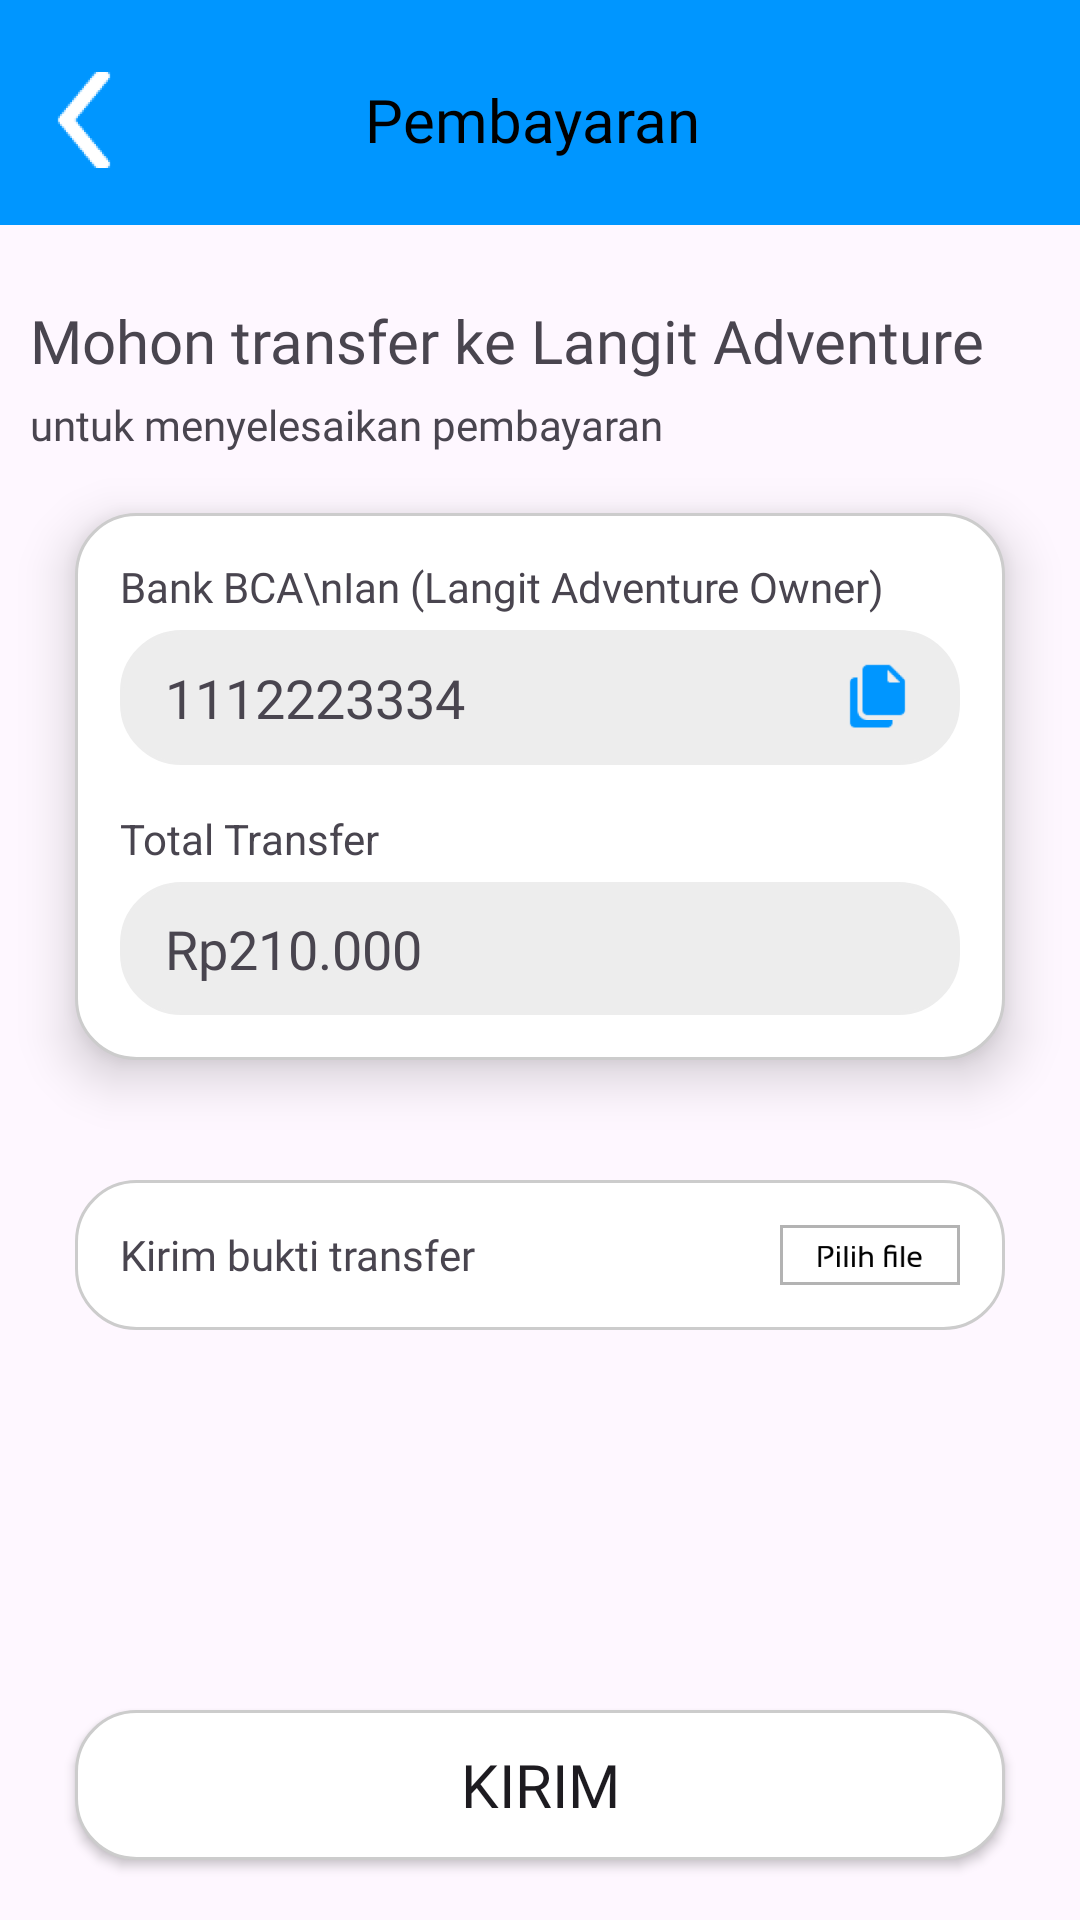

Named icons in this screenshot (1080px×1920px) and their bounding boxes, detection(x1, y1, x2, y2):
back: detection(58, 72, 110, 168)
